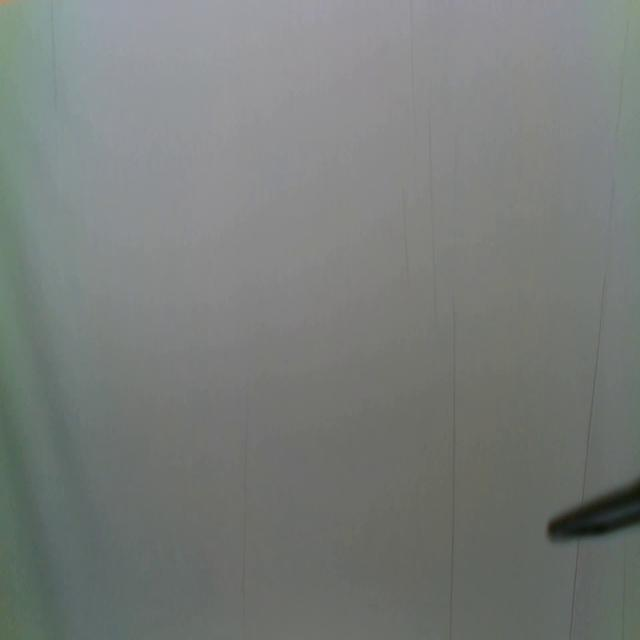crease: (583, 5, 633, 489), (447, 296, 459, 636), (426, 107, 441, 350), (238, 386, 251, 639), (408, 0, 420, 146), (567, 540, 582, 640), (49, 0, 60, 114), (620, 530, 630, 640), (402, 181, 409, 278)
